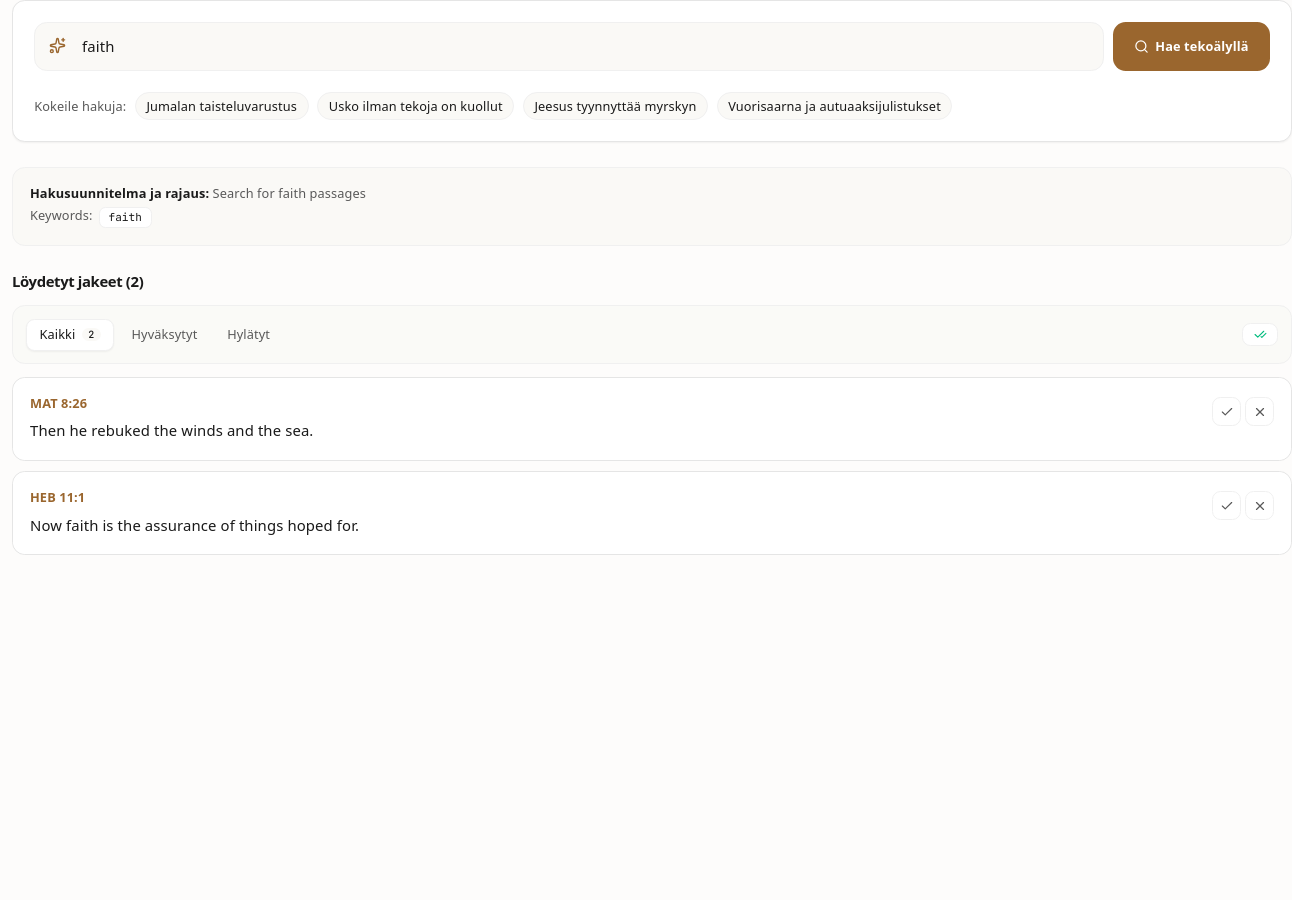
Test case: AiSemanticSearch state retention › verse curation and triage integration › shows unreviewed banner when committing with unclassified verses and allows accepting all remaining
// Accept verse v1 only, leaving v2 unclassified
Click the 1st button named "Hyväksy jae" at (1227,412), box [1212,397,1241,426]
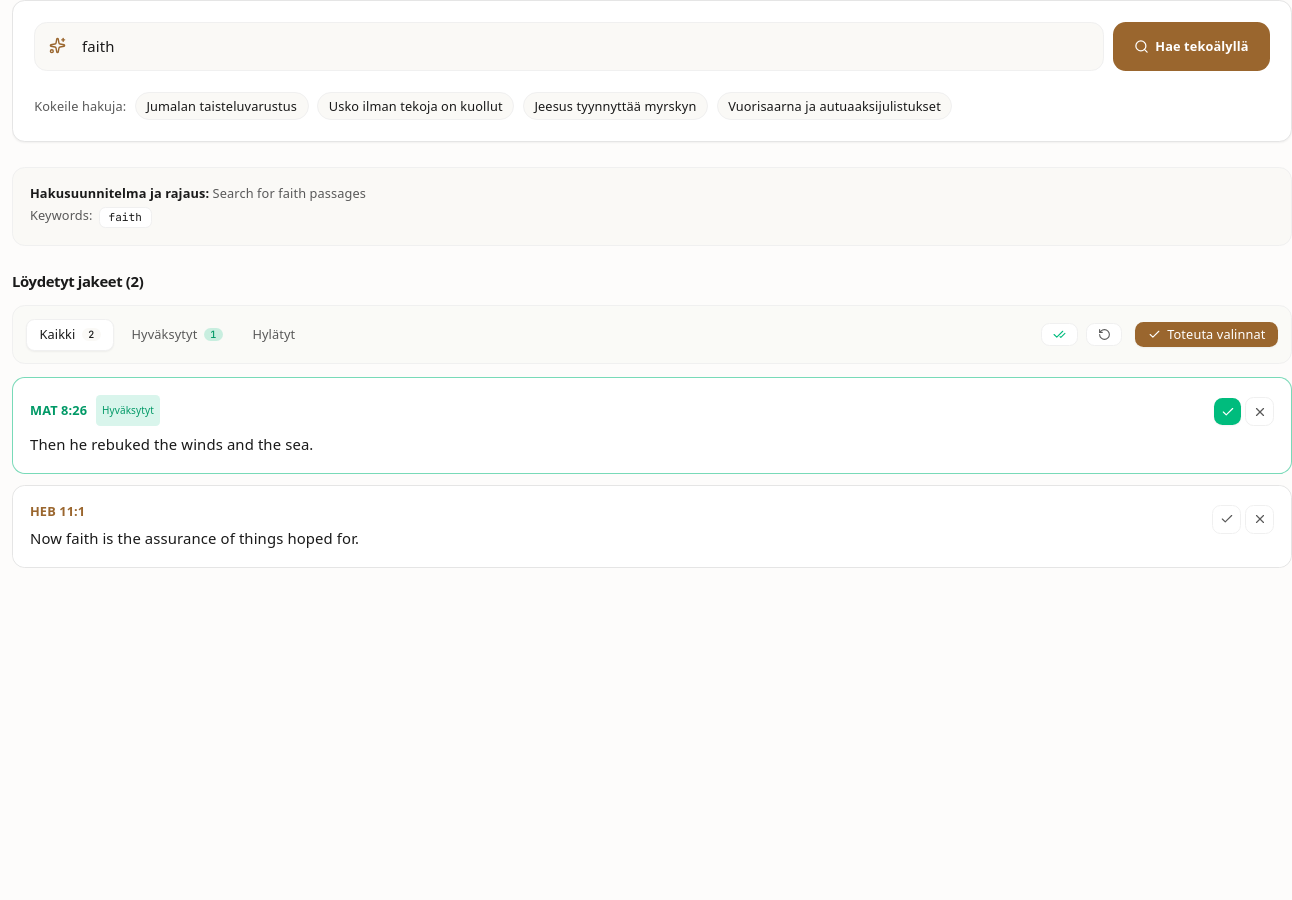
Expected: the button "Toteuta valinnat" is shown
Click the button "Toteuta valinnat" at (1207,335), box [1135,322,1278,348]
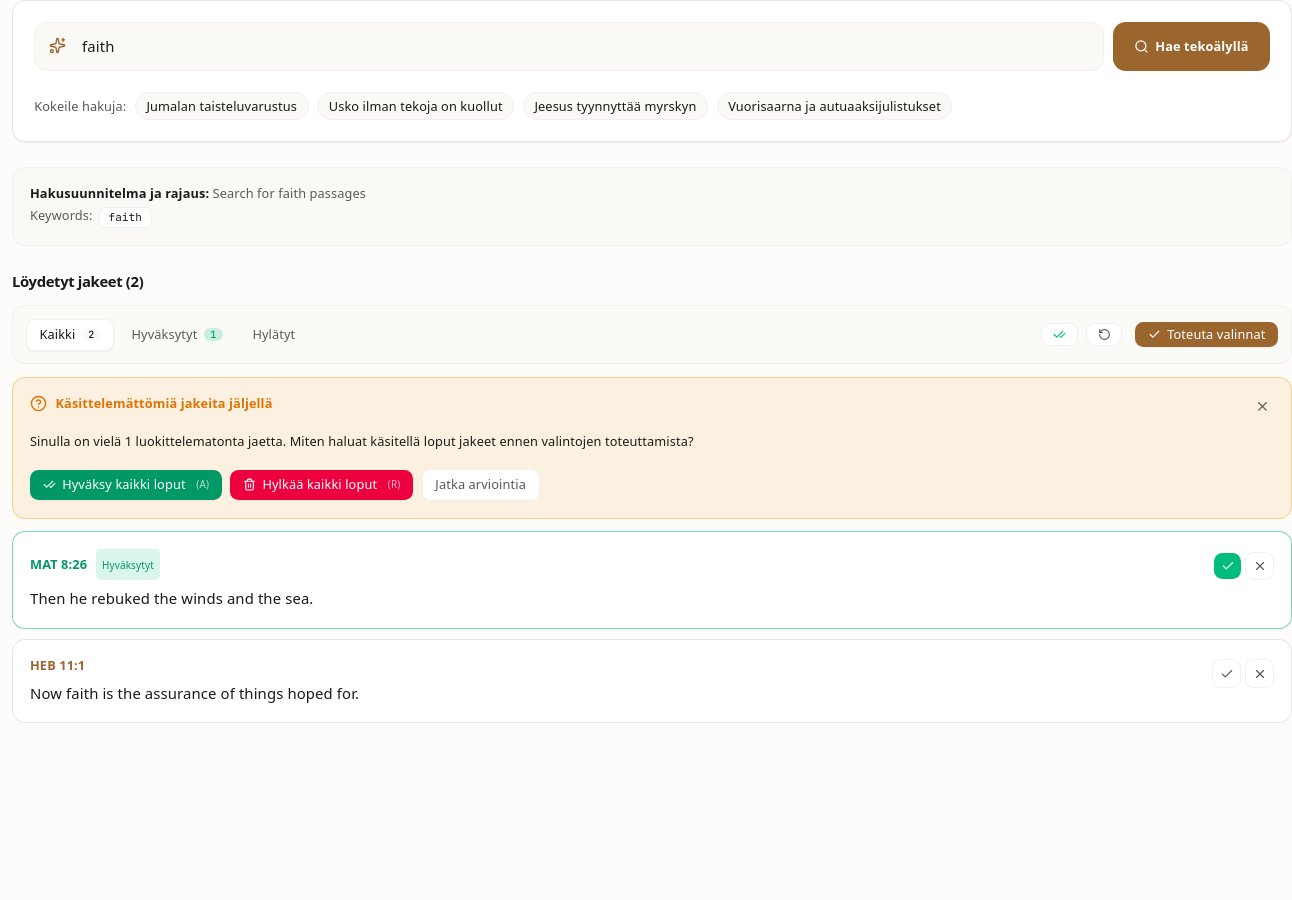
Expected: the button "Hyväksy kaikki loput (A)" is shown
// Click "Accept all remaining"
Click the button "Hyväksy kaikki loput (A)" at (126,485), box [30,470,222,500]
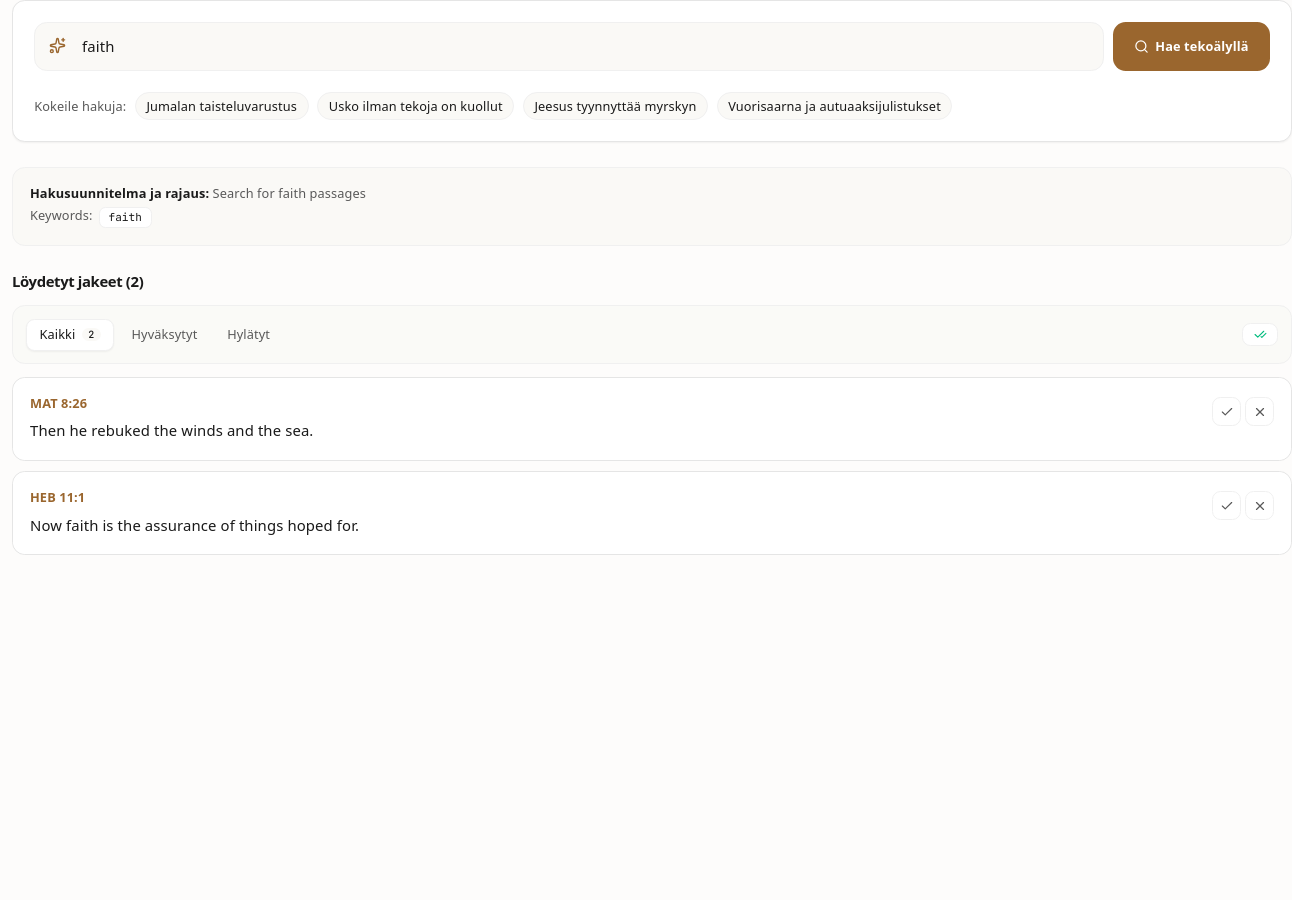
Expected: the element with test id "curated-verse-v1" is shown, [12,377,1291,461]
Expected: the text "Hyväksy kaikki loput" is gone
